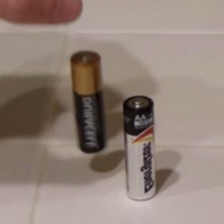battery: (66, 47, 109, 156), (120, 93, 160, 202)
